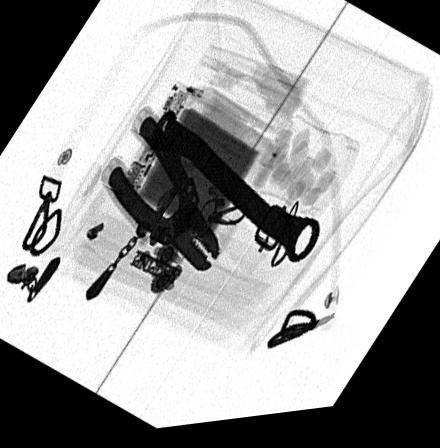Pliers: (104, 115, 220, 277)
Powerbank: (114, 83, 283, 262)
Wrench: (148, 111, 322, 268)
